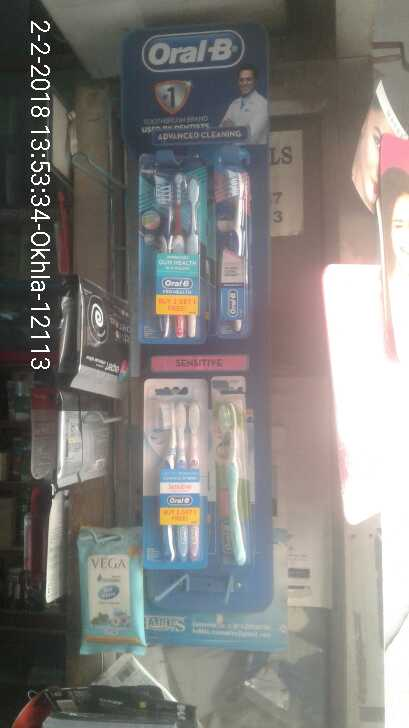oralb: (141, 172, 204, 336), (157, 400, 206, 563), (216, 403, 258, 569), (223, 172, 256, 334)
